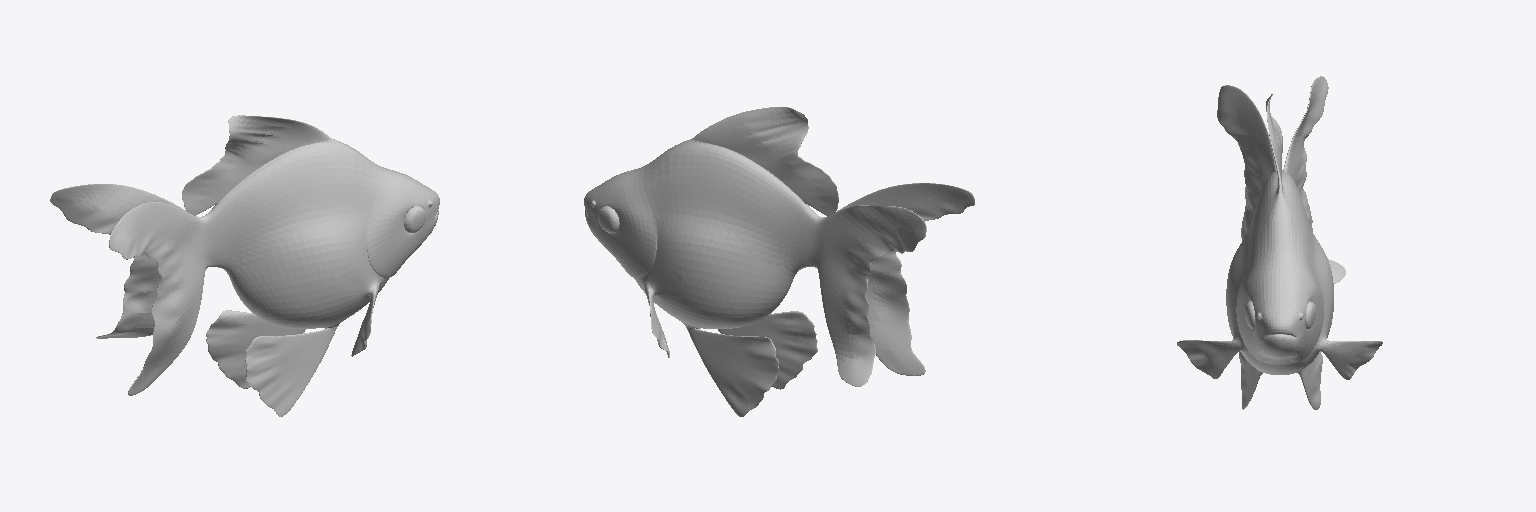
Rendered from kuti_goldfish.obj.
3 views of the same model, side by side, from view 1: azimuth 30°, elevation 25°; view 2: azimuth 150°, elevation 25°; view 3: azimuth 270°, elevation 25° (orthographic).
Parts seen in each view (by area): view 1: Ryukin_Goldfish; view 2: Ryukin_Goldfish; view 3: Ryukin_Goldfish.
Part boxes in pixels (x1,y1,x2,y2): Ryukin_Goldfish: (50,115,439,416); Ryukin_Goldfish: (584,107,974,416); Ryukin_Goldfish: (1177,76,1382,409).
Bounding box in the file's own units: 13.13 × 10.27 × 6.45.